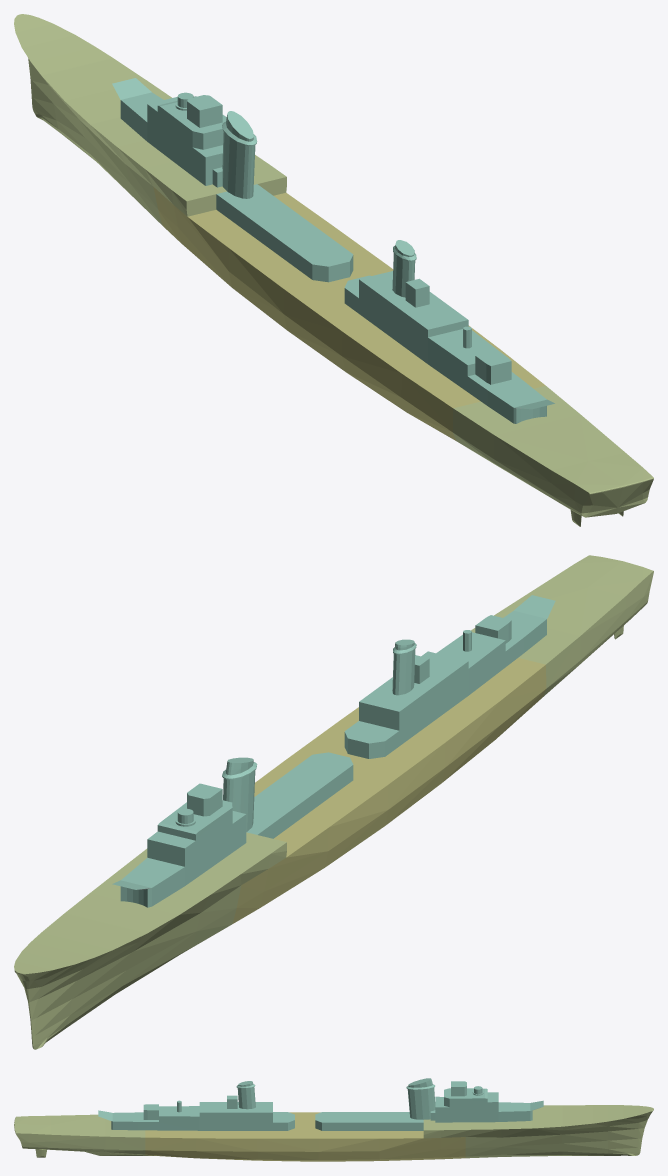
Rendered from PGSD208_armor.glb.
The picture shows the model from 3 angles, top to bottom: view 1: azimuth 30°, elevation 25°; view 2: azimuth 150°, elevation 25°; view 3: azimuth 270°, elevation 25°; orthographic projection. The views are drawn at different scales.
Parts seen in each view (by area): view 1: armor; view 2: armor; view 3: armor.
Part boxes in pixels (x1,y1,x2,y2): armor: (14,14,653,526); armor: (14,555,653,1049); armor: (14,1078,653,1161).
Bounding box in the file's own units: 20.04 × 26.5 × 200.
